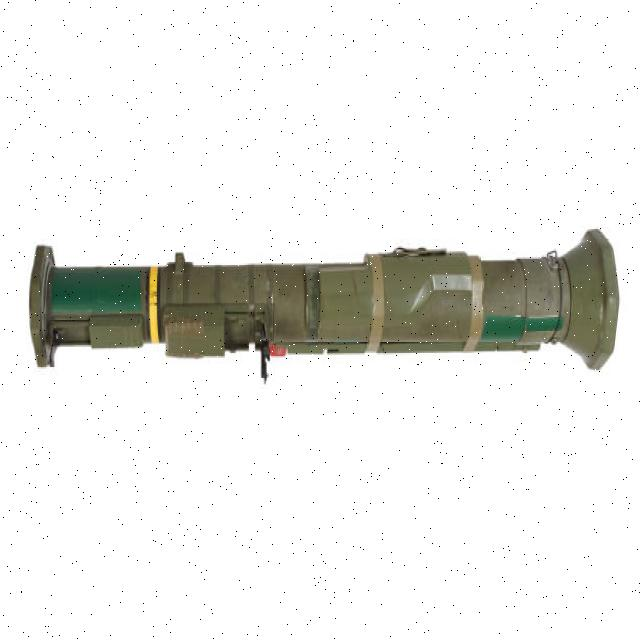bazooka: (28, 217, 627, 390)
